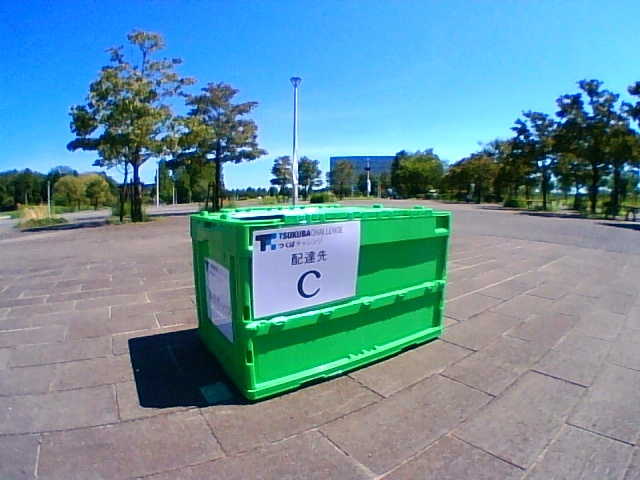green_box: (190, 203, 450, 400)
tag_c: (260, 231, 355, 298)
